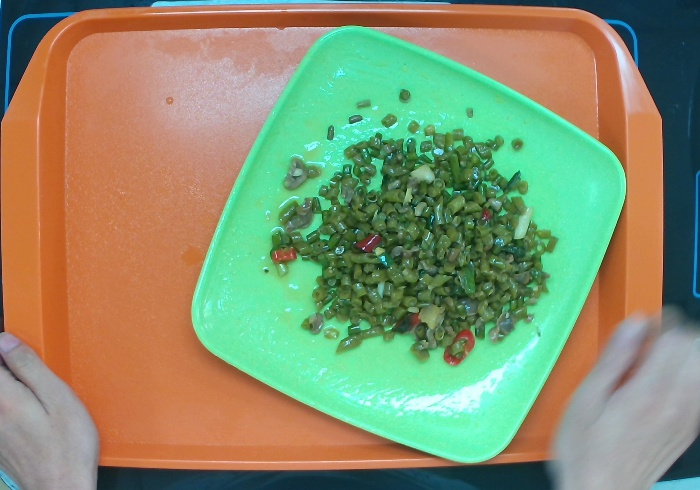ZNLD-Lv_Fang_Pan: (192, 21, 625, 464)
